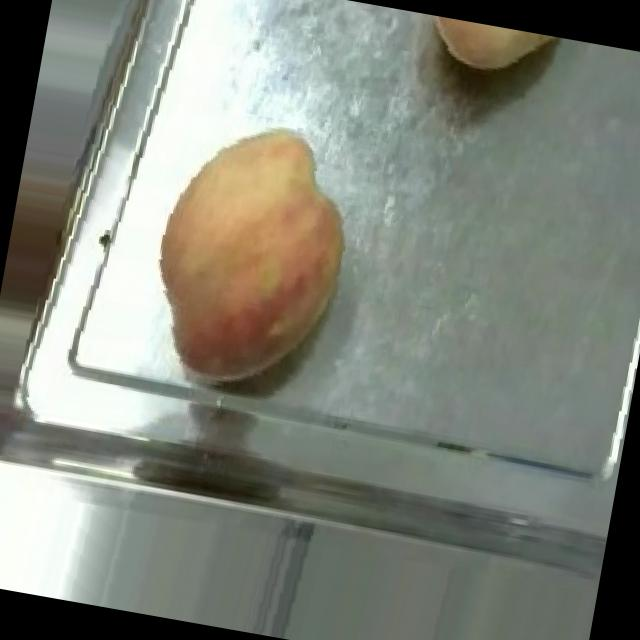Fruit: (124, 97, 381, 410), (0, 115, 110, 340), (388, 9, 596, 107)
